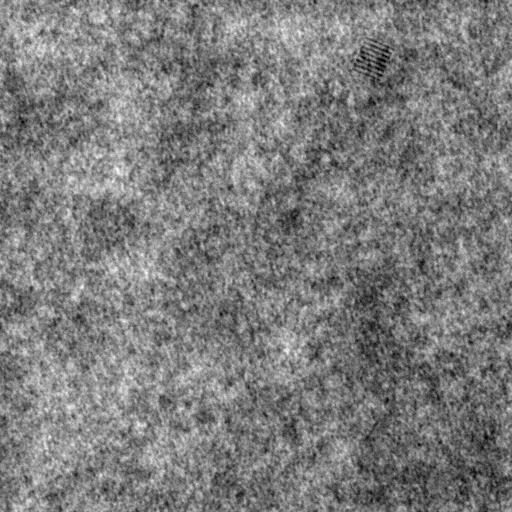impact: (350, 35, 394, 85)
